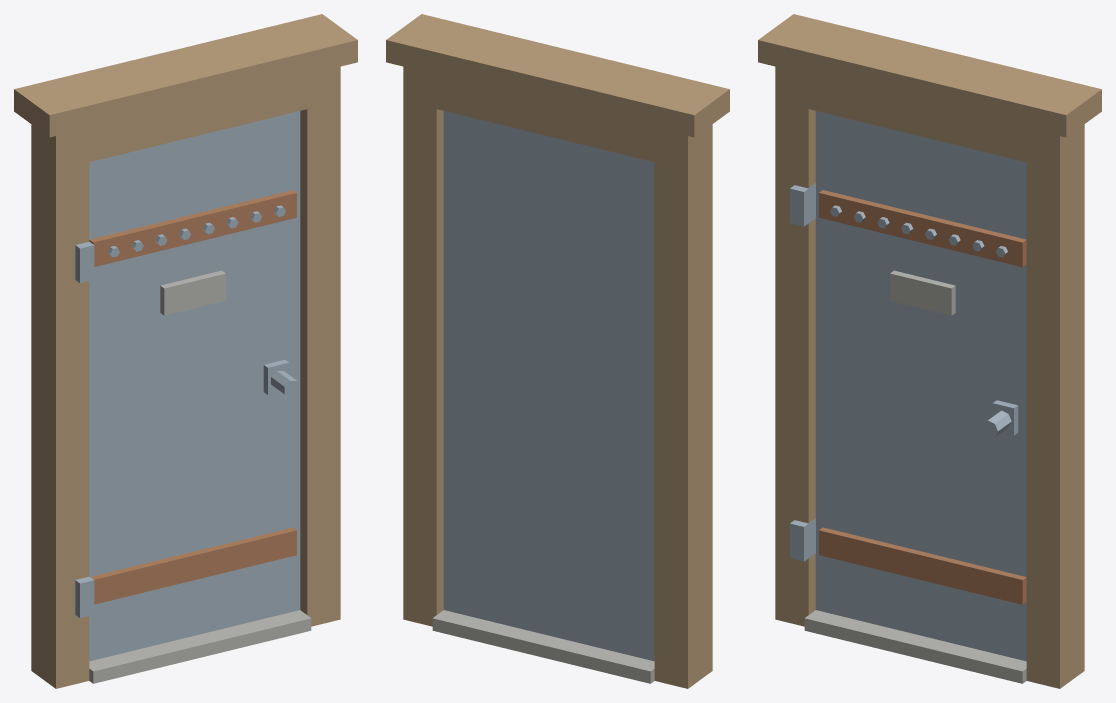
The model's file is wipe-day-survival-island-sheet-metal-door-with-frame-fa3d7172__27475.glb.
3 renders of one model, left to right at view 1: azimuth 30°, elevation 25°; view 2: azimuth 150°, elevation 25°; view 3: azimuth 330°, elevation 25°, orthographic.
Parts seen in each view (by area): view 1: door/metal, sheet-metal-door-with-frame, door/rust, door/stone; view 2: door/metal, sheet-metal-door-with-frame; view 3: door/metal, sheet-metal-door-with-frame, door/rust, door/stone.
Boxes of the visible parts, box(x1,y1,x2,y2) form: door/metal: box(89, 111, 300, 661); sheet-metal-door-with-frame: box(14, 14, 357, 688); door/rust: box(89, 190, 296, 604); door/stone: box(160, 270, 225, 315); door/metal: box(443, 111, 654, 661); sheet-metal-door-with-frame: box(386, 14, 729, 688); door/metal: box(815, 111, 1026, 661); sheet-metal-door-with-frame: box(758, 14, 1101, 688); door/rust: box(819, 190, 1026, 604); door/stone: box(890, 270, 955, 315).
Bounding box in the file's own units: 1.3 × 2.34 × 0.2999.
